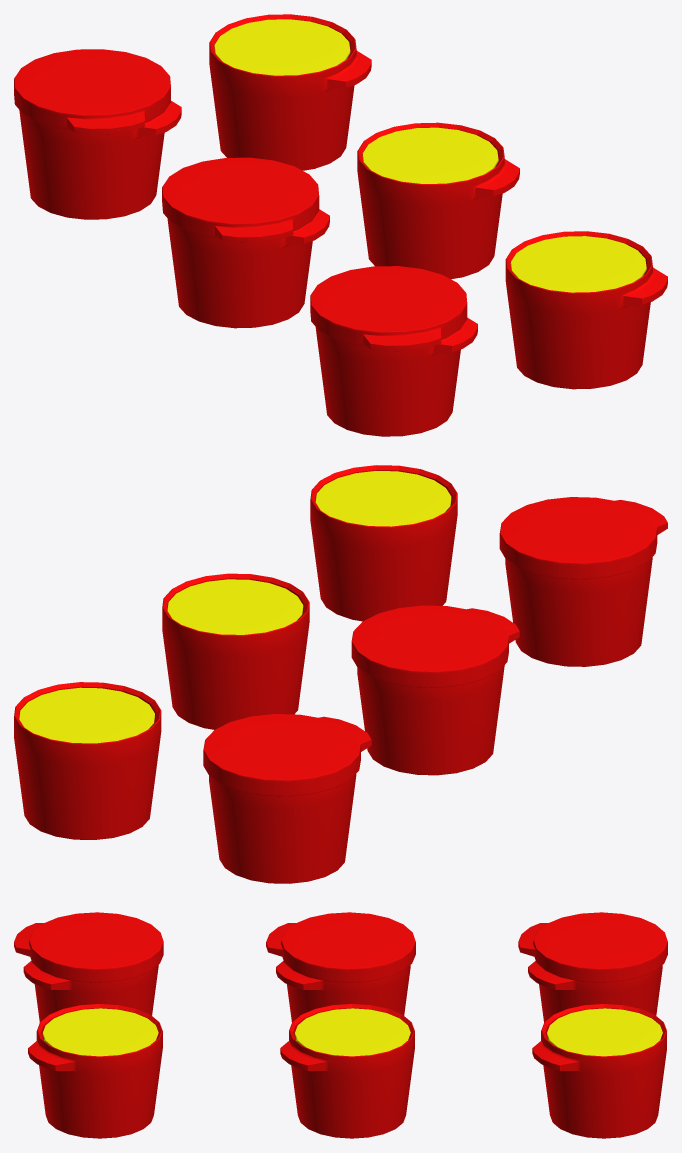
File: painBucket.fbx
3 views of the same model, one above another, from view 1: azimuth 30°, elevation 25°; view 2: azimuth 150°, elevation 25°; view 3: azimuth 270°, elevation 25° (orthographic). The views are drawn at different scales.
Parts seen in each view (by area): view 1: paintBucket6 (×3), paintBucket7 (×3); view 2: paintBucket6 (×3), paintBucket7 (×3); view 3: paintBucket7 (×3), paintBucket6 (×3).
Boxes of the visible parts, x1,y1,x2,y2 form: paintBucket6 (×3): (14,49,477,436); paintBucket7 (×3): (209,14,667,389); paintBucket6 (×3): (203,497,667,883); paintBucket7 (×3): (14,465,457,839); paintBucket7 (×3): (28,1004,666,1138); paintBucket6 (×3): (14,912,667,1022).
Bounding box in the file's own units: 5.07 × 1.69 × 10.38.
